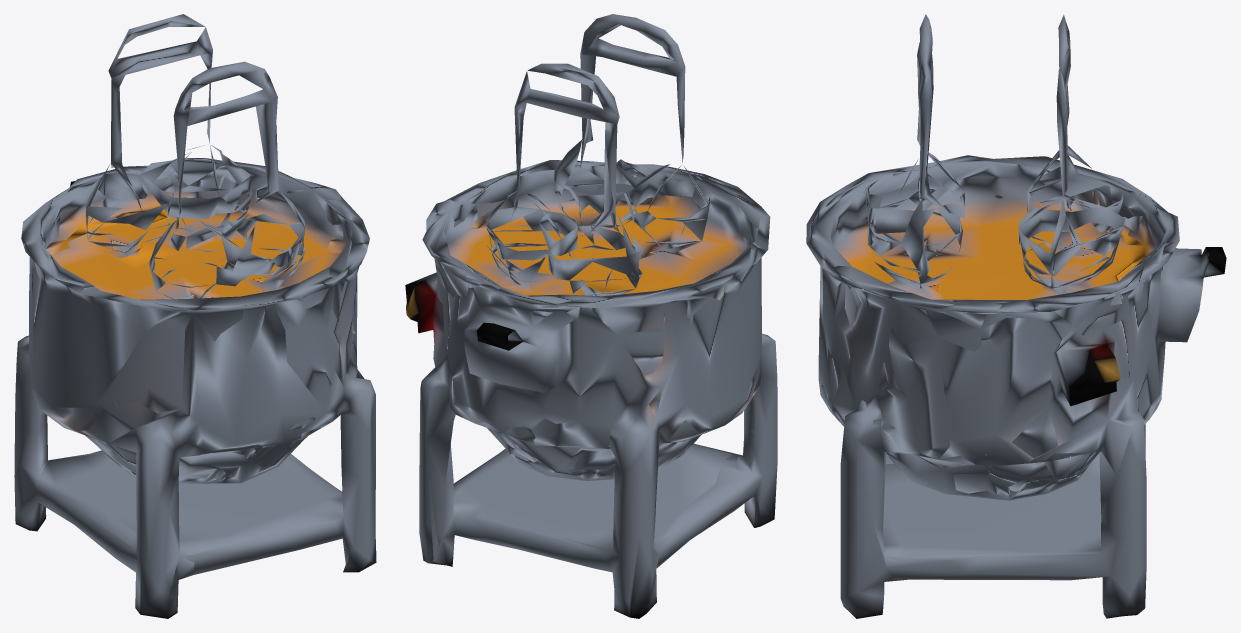
Rendered from gen3d-deep-fryer-lod0.glb.
The picture shows the model from 3 angles, left to right: view 1: azimuth 30°, elevation 25°; view 2: azimuth 150°, elevation 25°; view 3: azimuth 270°, elevation 25°; orthographic projection. The views are drawn at different scales.
Visible parts, largest first — view 1: part_0; view 2: part_0; view 3: part_0.
Part boxes in pixels (bbox=[...]): part_0: bbox=[14, 14, 376, 618]; part_0: bbox=[405, 14, 777, 618]; part_0: bbox=[806, 14, 1226, 618].
Bounding box in the file's own units: 0.6229 × 0.9974 × 0.7085.
